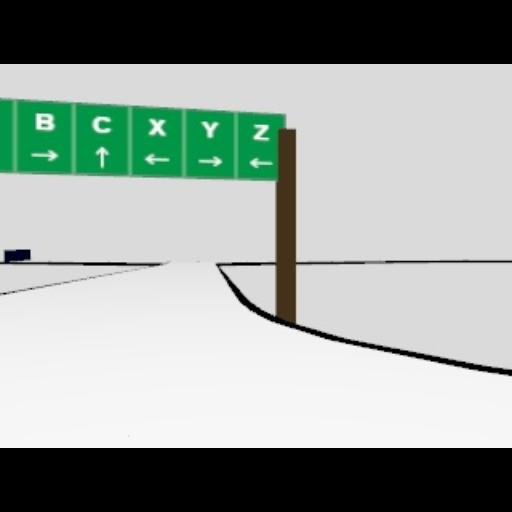B: (34, 110, 56, 132)
C: (92, 115, 112, 133)
Left: (142, 152, 170, 164), (248, 156, 274, 168)
Right: (30, 148, 60, 162), (197, 154, 223, 166)
Straight: (95, 146, 109, 166)
X: (148, 117, 166, 135)
Y: (200, 120, 220, 138)
Z: (251, 123, 269, 139)
